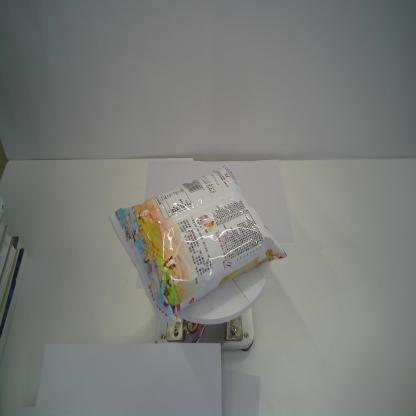Puffed Food: (105, 161, 289, 326)
